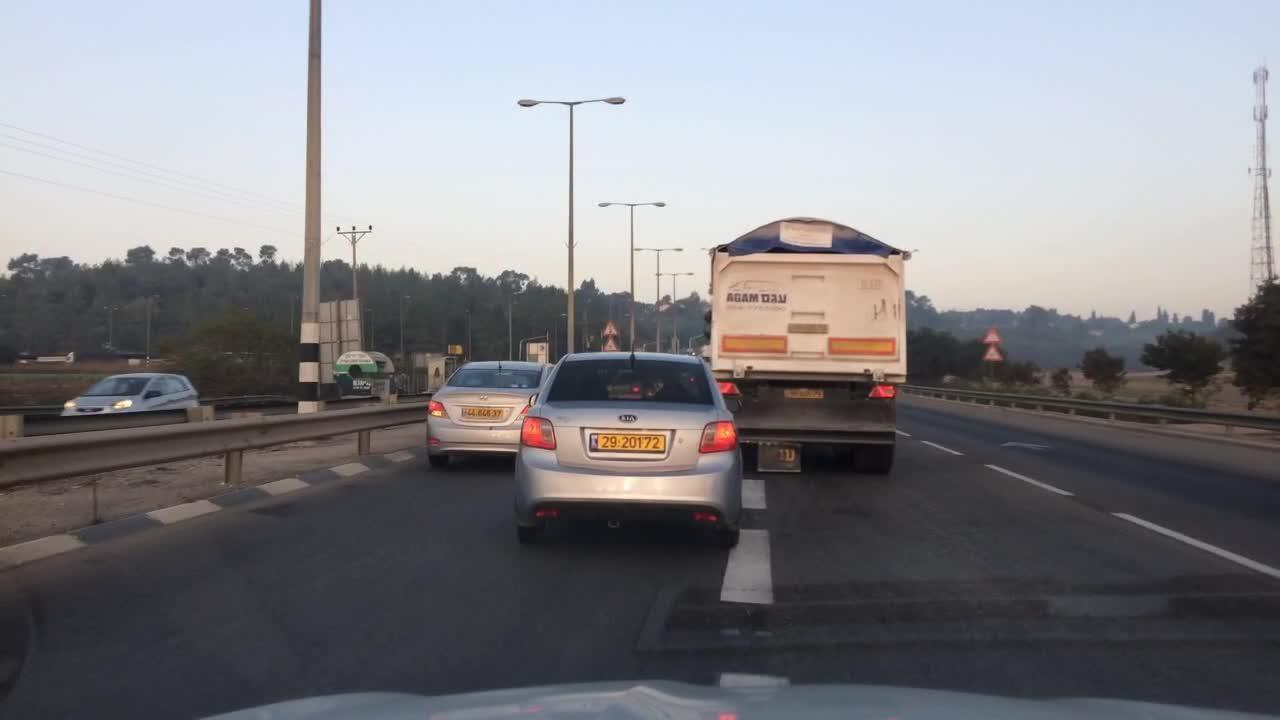kia: (617, 412, 641, 422)
